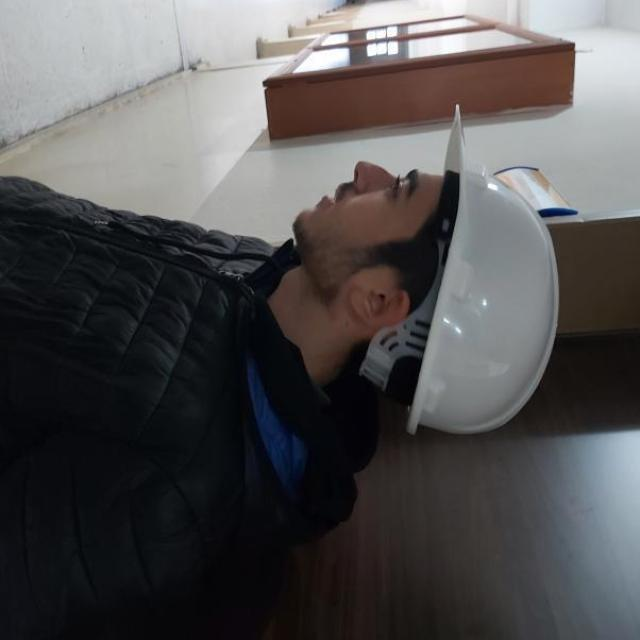helmet: (357, 103, 559, 436)
